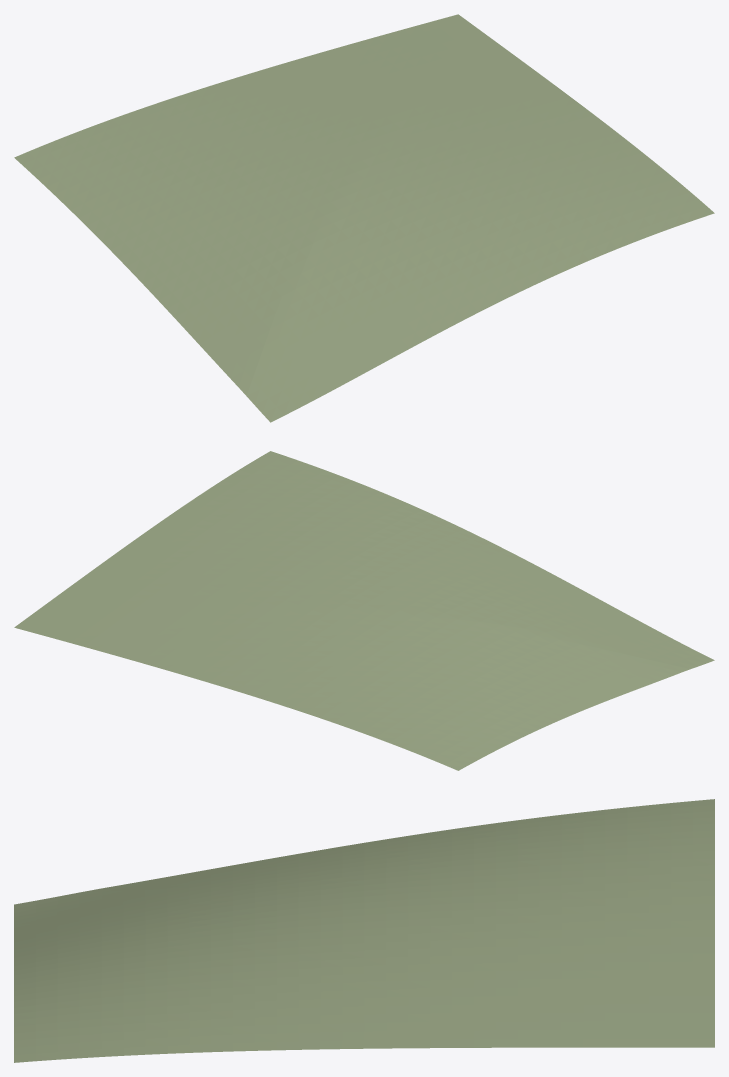
File: expanse-11-11.glb
The picture shows the model from 3 angles, top to bottom: view 1: azimuth 30°, elevation 25°; view 2: azimuth 150°, elevation 25°; view 3: azimuth 270°, elevation 25°; orthographic projection. The views are drawn at different scales.
Parts seen in each view (by area): view 1: expanse-11-11; view 2: expanse-11-11; view 3: expanse-11-11.
Part boxes in pixels (<box>): expanse-11-11: <box>14,14,714,422</box>; expanse-11-11: <box>14,451,714,770</box>; expanse-11-11: <box>14,799,714,1062</box>.
Size of the model in its own units: 256 by 61.72 by 256.
